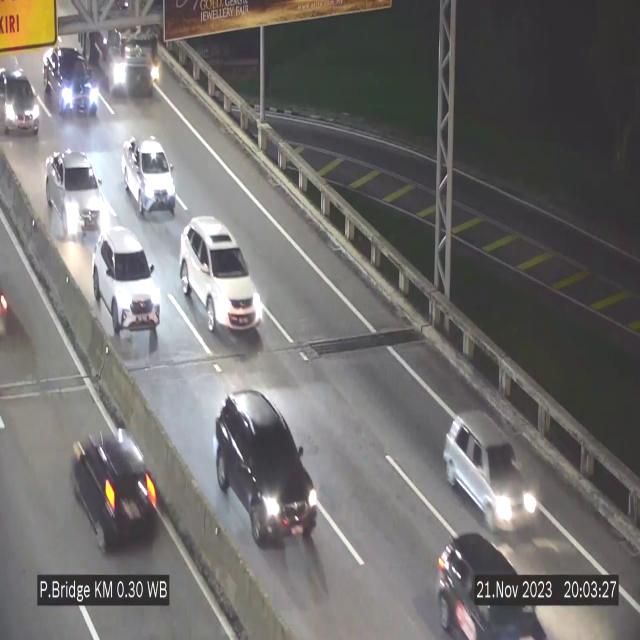Car: (212, 385, 320, 549), (68, 410, 164, 568), (441, 408, 540, 528), (433, 534, 545, 640), (180, 217, 262, 334), (89, 223, 164, 340), (44, 148, 108, 246), (42, 46, 101, 126), (122, 138, 176, 218), (0, 65, 44, 141)
